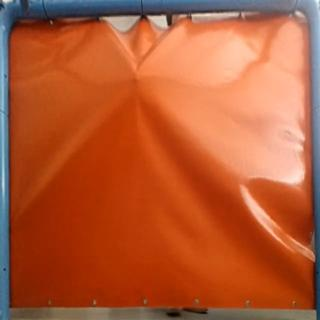Hit-hRxx: (130, 70, 148, 85)
